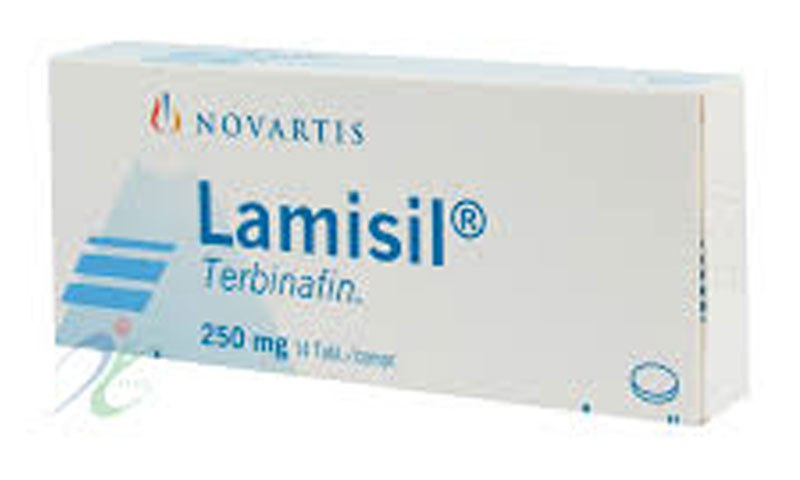Medicine: (46, 38, 759, 434)
